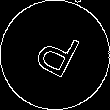P_SW: (27, 24, 83, 86)
